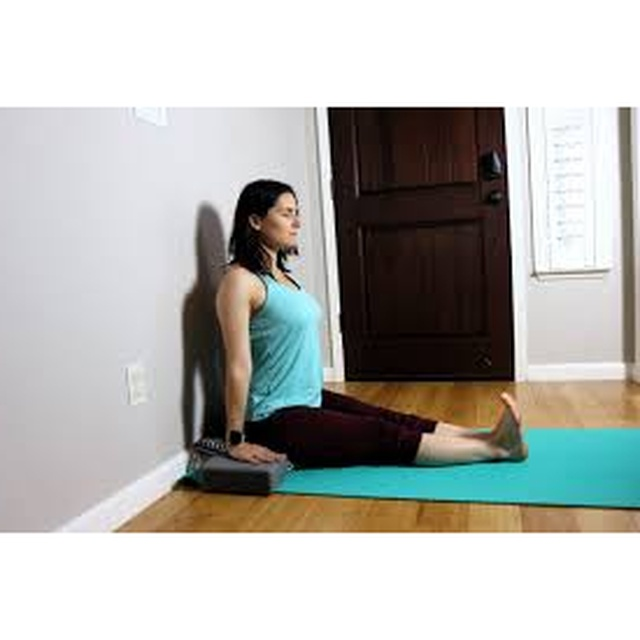Staff_Pose: (213, 179, 533, 470)
